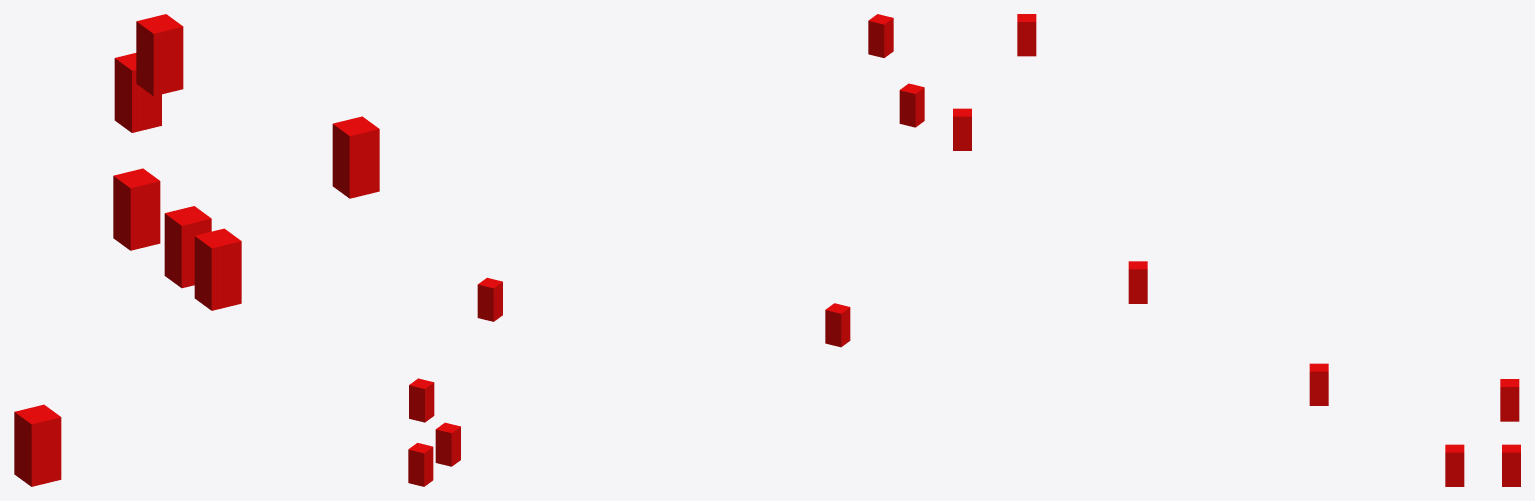
Rendered from M9_Enemies.fbx.
3 views of the same model, side by side, from view 1: azimuth 30°, elevation 25°; view 2: azimuth 150°, elevation 25°; view 3: azimuth 270°, elevation 25° (orthographic). The views are drawn at different scales.
Visible parts, largest first — view 1: Enemy1, Enemy3, Enemy5, Enemy6, Enemy7, Enemy2, Enemy4; view 2: Enemy7, Enemy3, Enemy5, Enemy2, Enemy4, Enemy6, Enemy1; view 3: Enemy4, Enemy5, Enemy2, Enemy3, Enemy6, Enemy1, Enemy7.
Part boxes in pixels (left/top/right/bottom): Enemy1: left=113, top=168, right=160, bottom=250; Enemy3: left=332, top=116, right=379, bottom=198; Enemy5: left=14, top=404, right=61, bottom=486; Enemy6: left=136, top=14, right=183, bottom=96; Enemy7: left=194, top=228, right=241, bottom=310; Enemy2: left=164, top=206, right=211, bottom=288; Enemy4: left=114, top=53, right=161, bottom=132; Enemy7: left=899, top=83, right=924, bottom=127; Enemy3: left=477, top=277, right=502, bottom=321; Enemy5: left=825, top=303, right=850, bottom=347; Enemy2: left=435, top=422, right=460, bottom=466; Enemy4: left=409, top=378, right=434, bottom=422; Enemy6: left=868, top=14, right=893, bottom=57; Enemy1: left=408, top=443, right=433, bottom=486; Enemy4: left=1500, top=379, right=1519, bottom=421; Enemy5: left=1128, top=261, right=1147, bottom=303; Enemy2: left=1445, top=444, right=1464, bottom=486; Enemy3: left=1309, top=363, right=1328, bottom=405; Enemy6: left=1017, top=14, right=1036, bottom=56; Enemy1: left=1502, top=444, right=1520, bottom=486; Enemy7: left=953, top=108, right=971, bottom=150.
Size of what is drawn, in the model's own units: 34.32 by 41 by 59.79.
